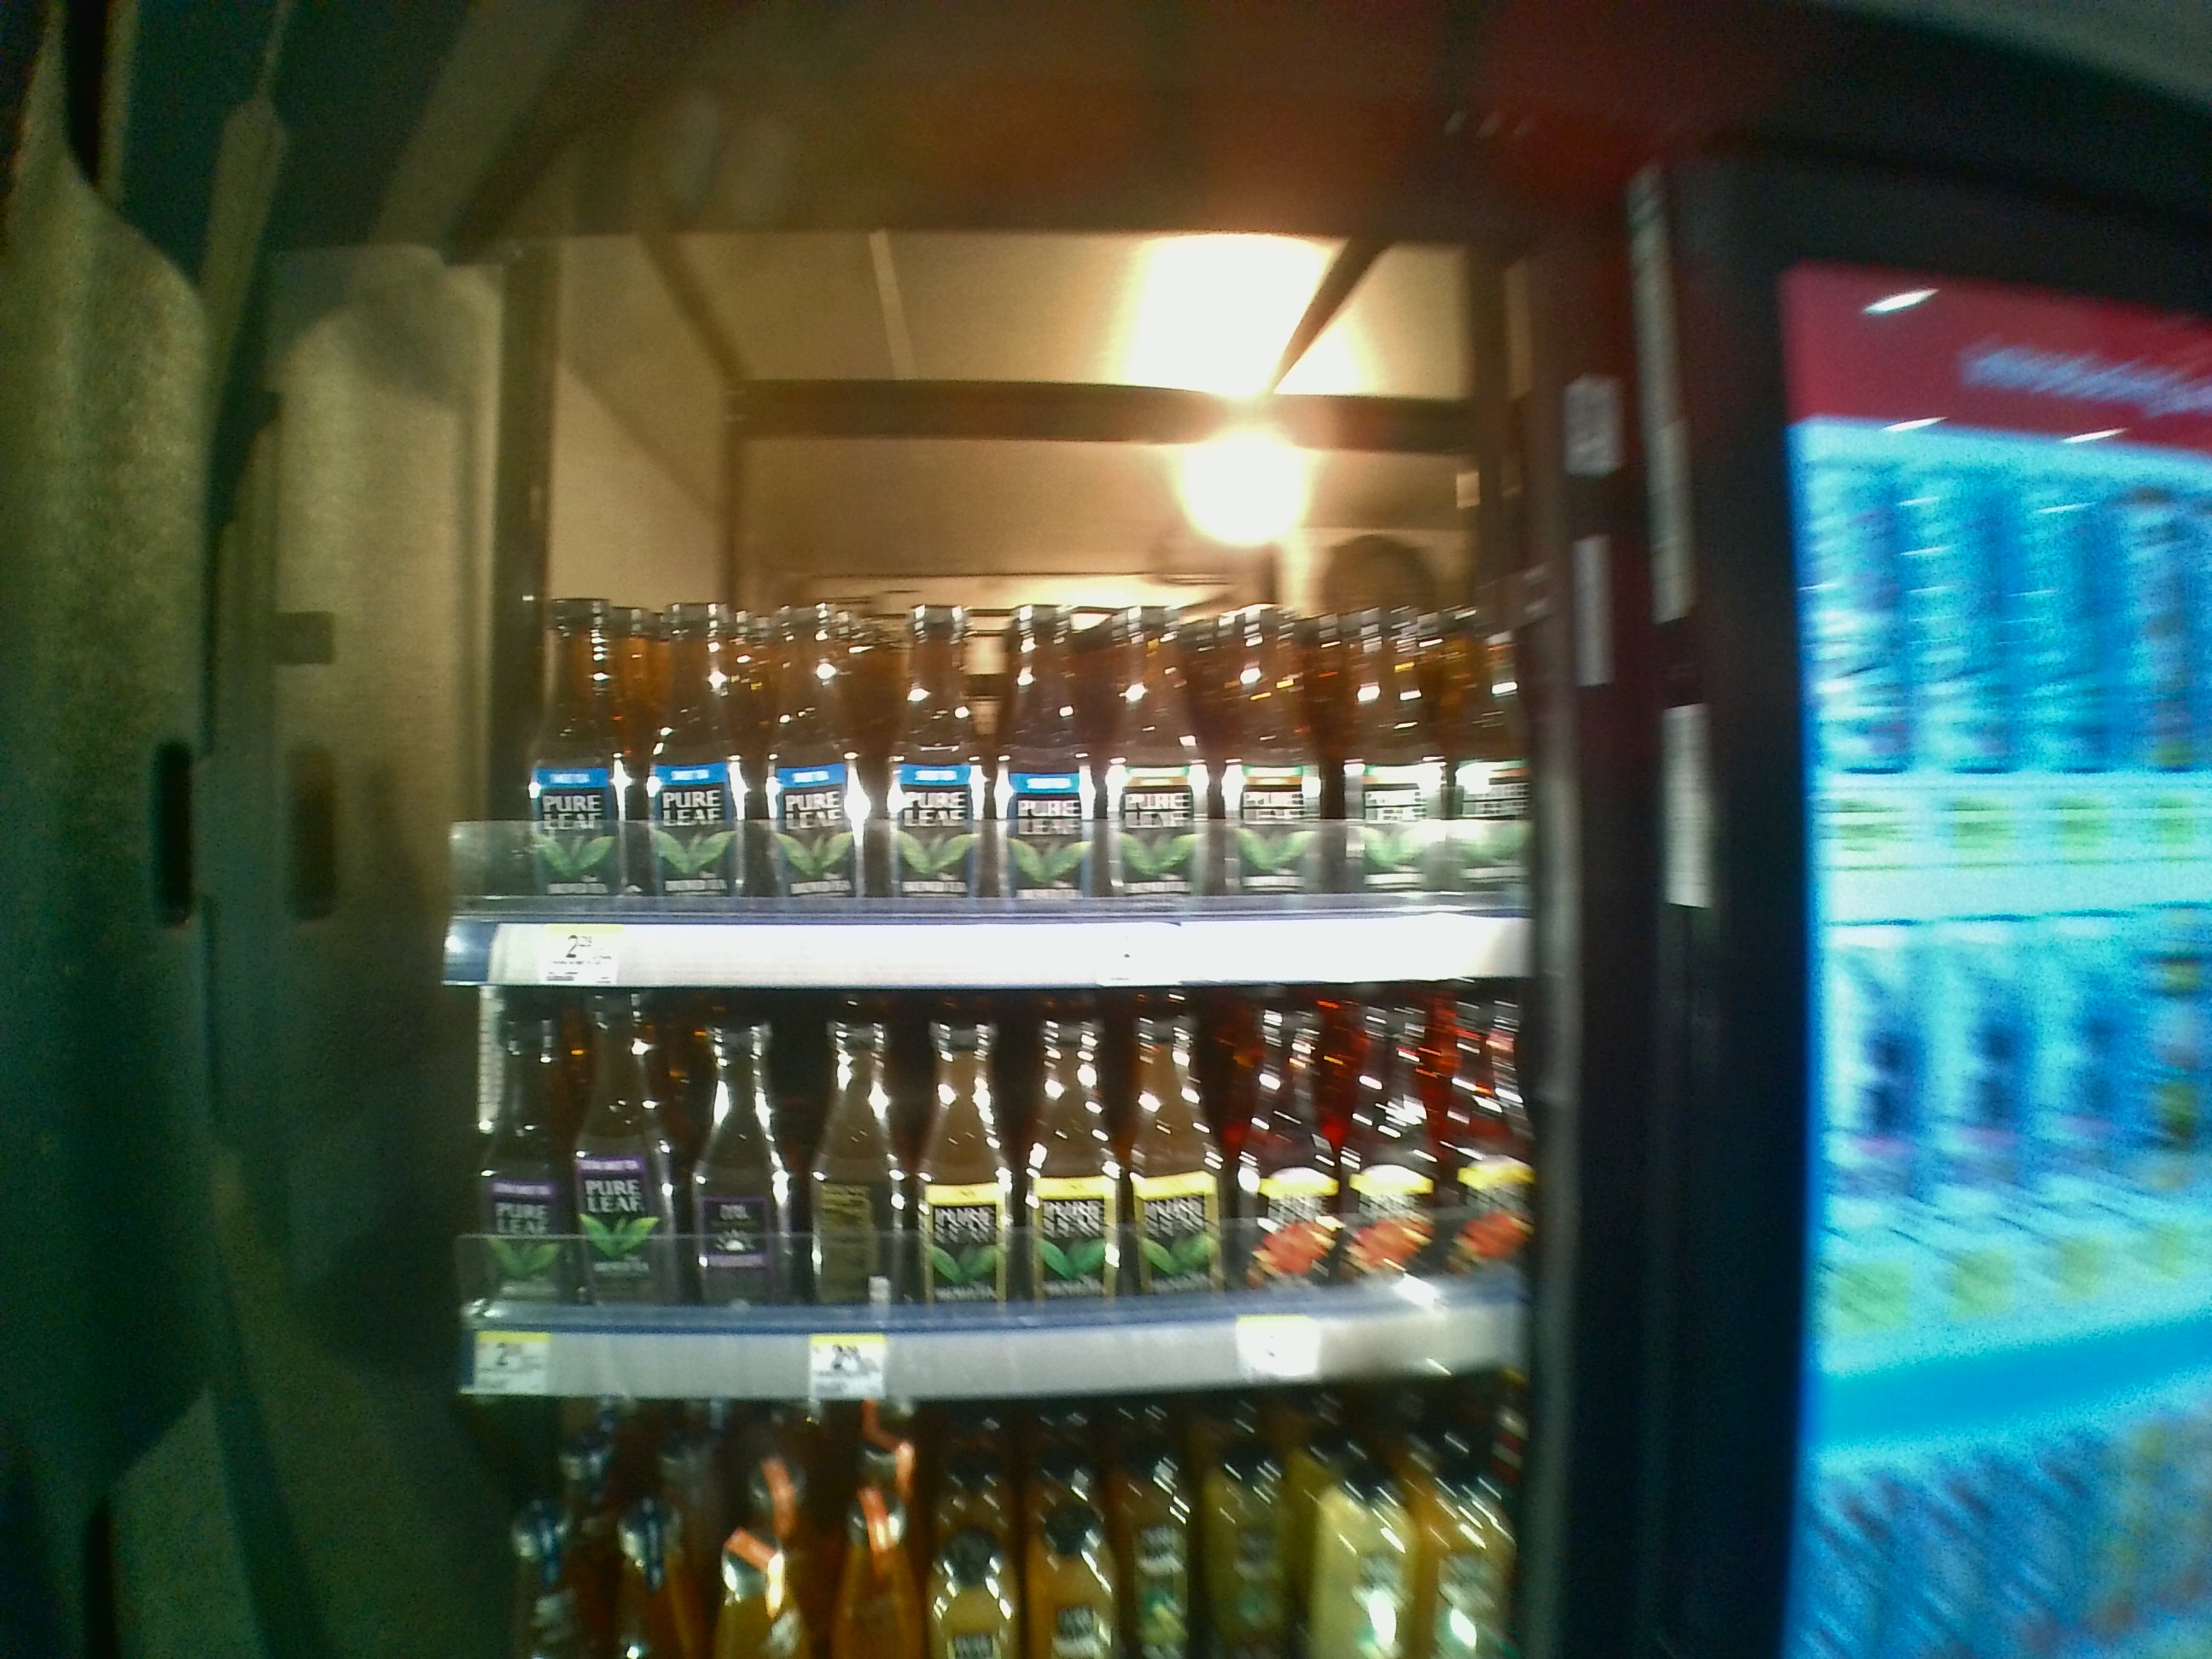shelf: (435, 301, 1526, 985), (451, 990, 1538, 1394)
